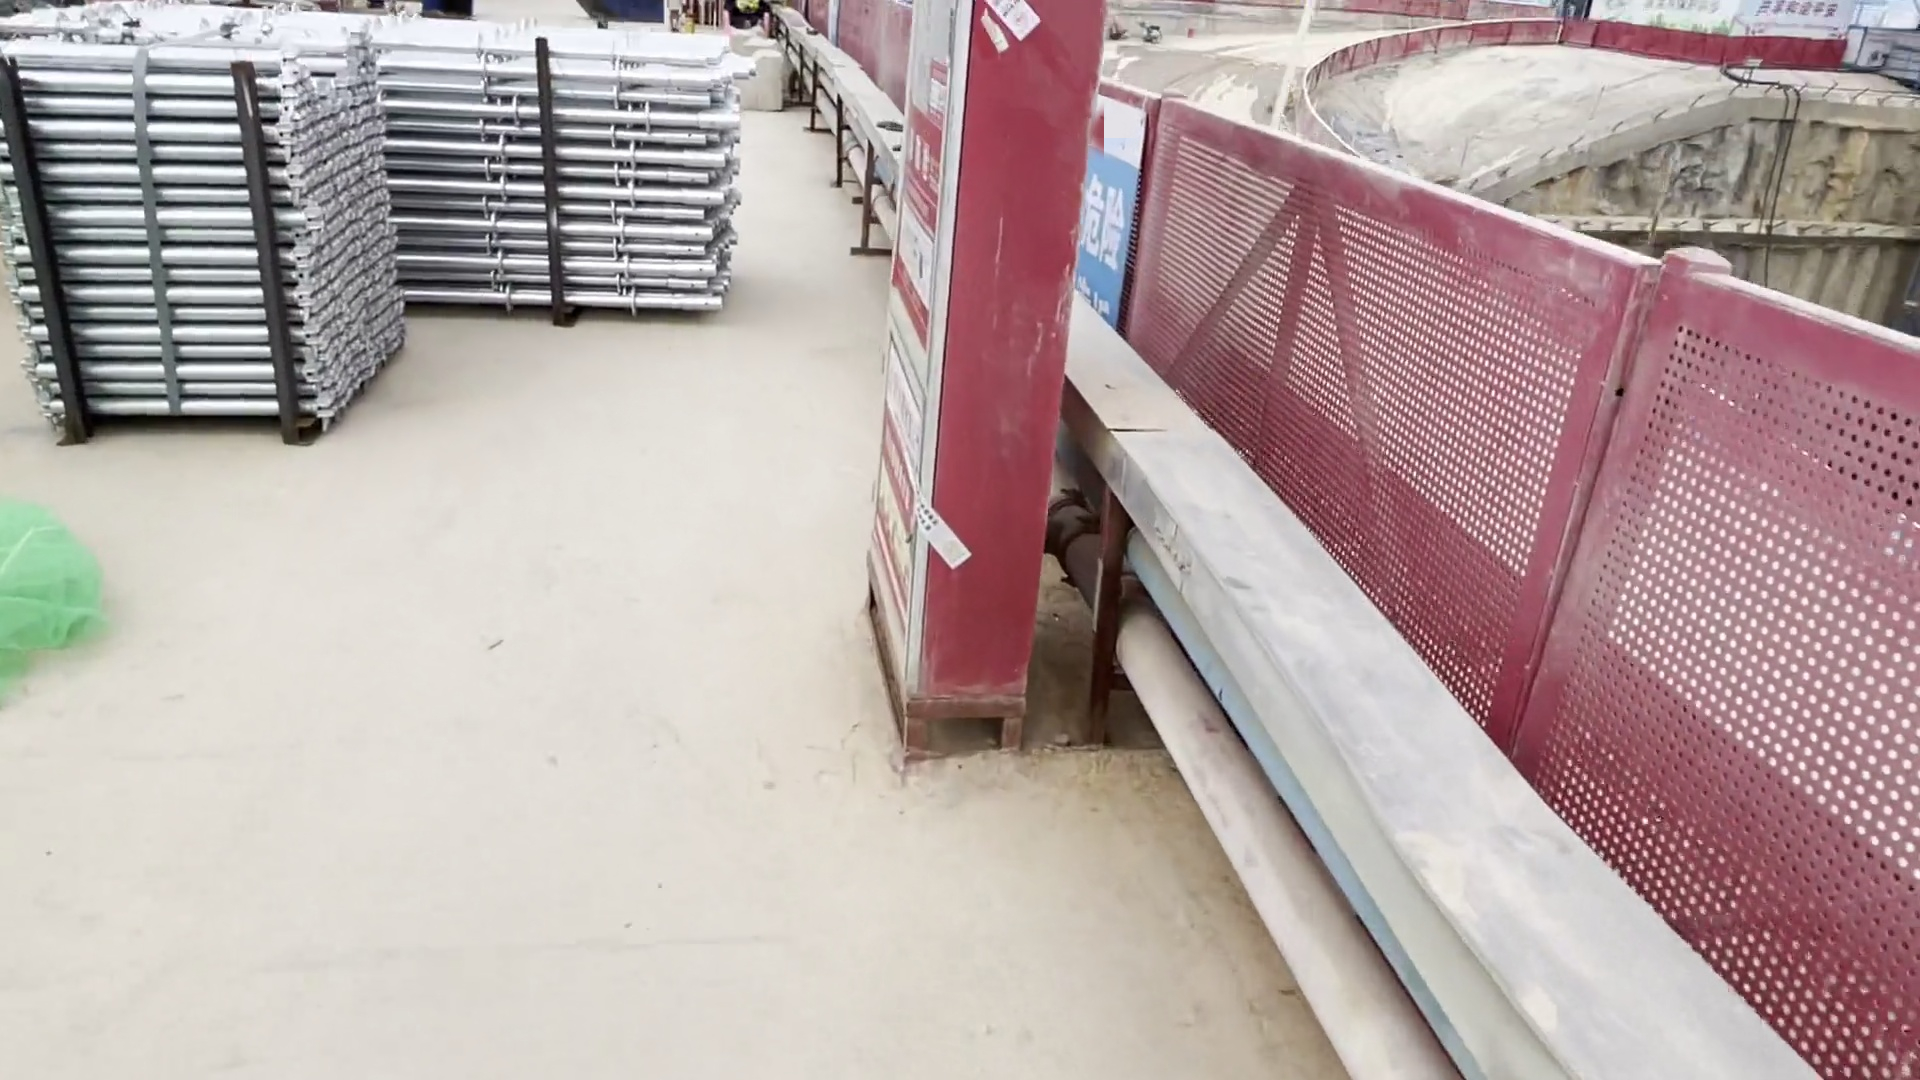fence: (1555, 223, 1920, 1033), (1146, 112, 1542, 765)
scaffold: (1, 22, 411, 448), (382, 36, 746, 330)
